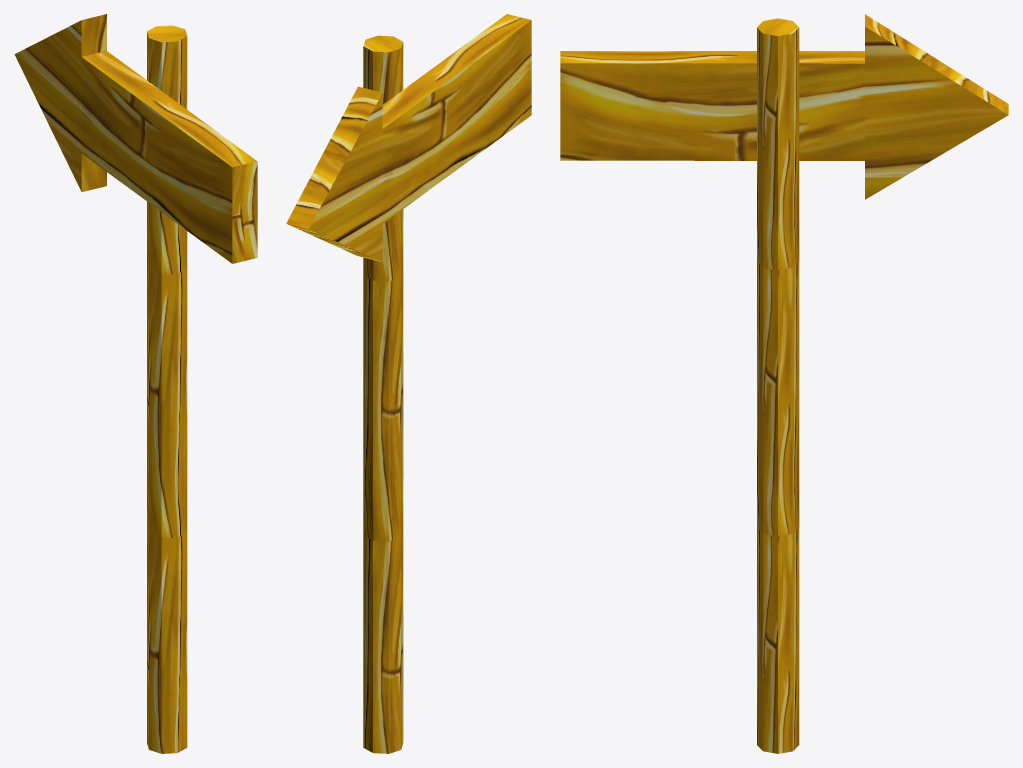
File: SignHorizontal.obj
3 renders of one model, left to right at view 1: azimuth 30°, elevation 25°; view 2: azimuth 150°, elevation 25°; view 3: azimuth 270°, elevation 25°, orthographic. The views are drawn at different scales.
Parts seen in each view (by area): view 1: Plane.001, Cylinder.001; view 2: Plane.001, Cylinder.001; view 3: Plane.001, Cylinder.001.
Boxes of the visible parts, bbox=[...] form: Plane.001: bbox=[14, 14, 257, 263]; Cylinder.001: bbox=[147, 25, 187, 753]; Plane.001: bbox=[286, 14, 531, 261]; Cylinder.001: bbox=[363, 35, 403, 753]; Plane.001: bbox=[560, 14, 1008, 199]; Cylinder.001: bbox=[757, 18, 799, 753].
Bounding box in the file's own units: 0.2682 × 3.01 × 1.7.
